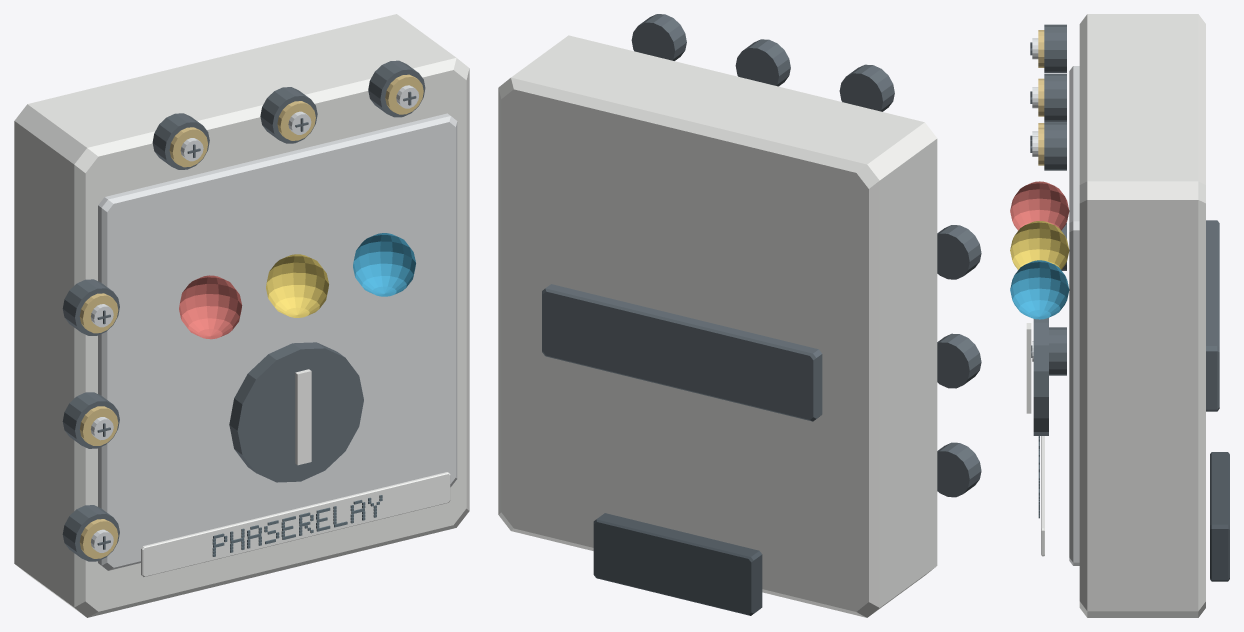
Rendered from phaseRelay.glb.
3 renders of one model, left to right at view 1: azimuth 30°, elevation 25°; view 2: azimuth 150°, elevation 25°; view 3: azimuth 270°, elevation 25°, orthographic. The views are drawn at different scales.
Visible parts, largest first — view 1: phaseRelay-preview; view 2: phaseRelay-preview; view 3: phaseRelay-preview.
Boxes of the visible parts, x1,y1,x2,y2 form: phaseRelay-preview: (14,14,469,617); phaseRelay-preview: (498,14,981,617); phaseRelay-preview: (1010,14,1229,617).
Size of the model in its own units: 2.91 by 3.36 by 1.43.
